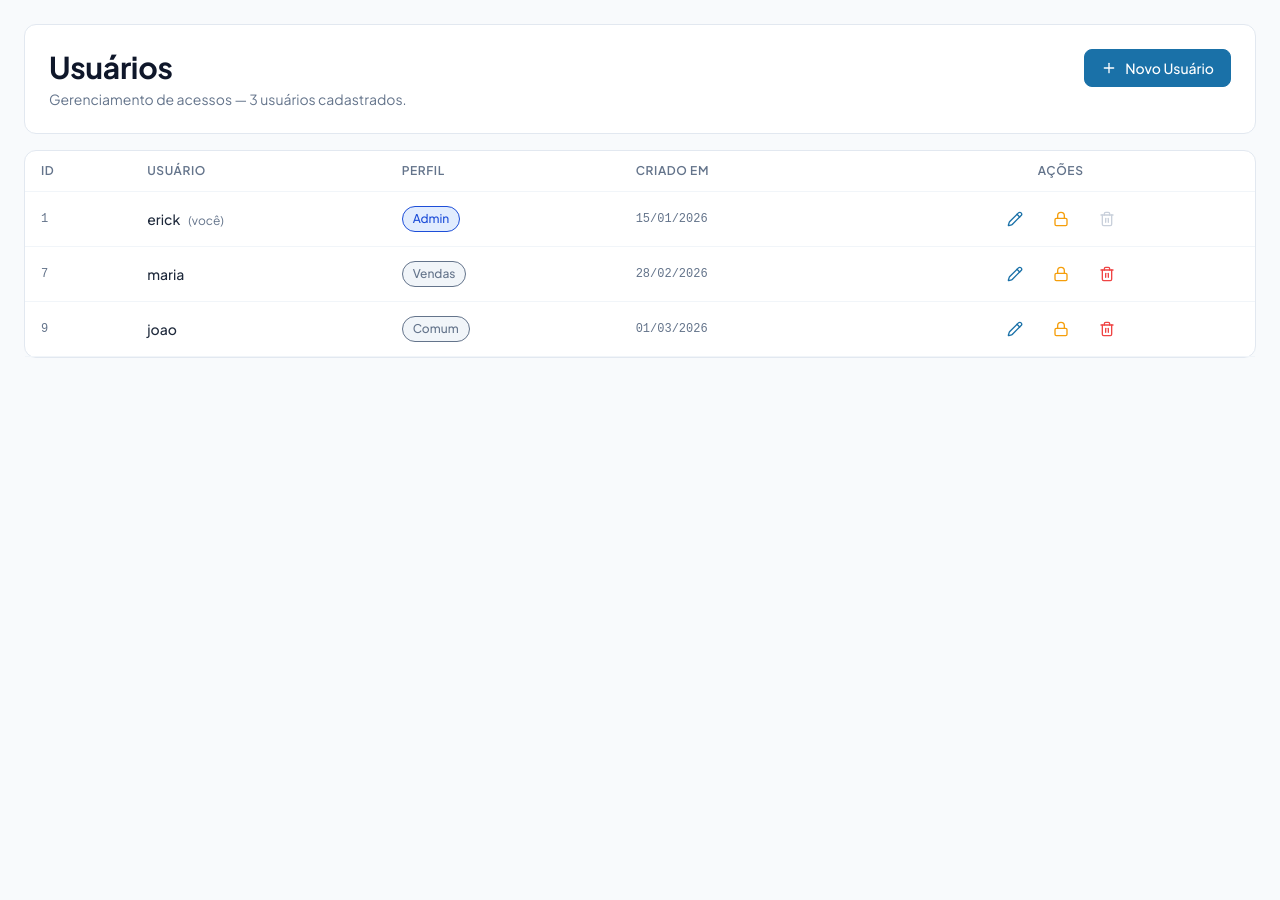
Test: Usuários — modal de criação › recusa senha com menos de 6 caracteres
Expected: the table is shown, [25,151,1255,357]
Click the button "Novo Usuário" at (1158, 68), box [1084,49,1231,87]
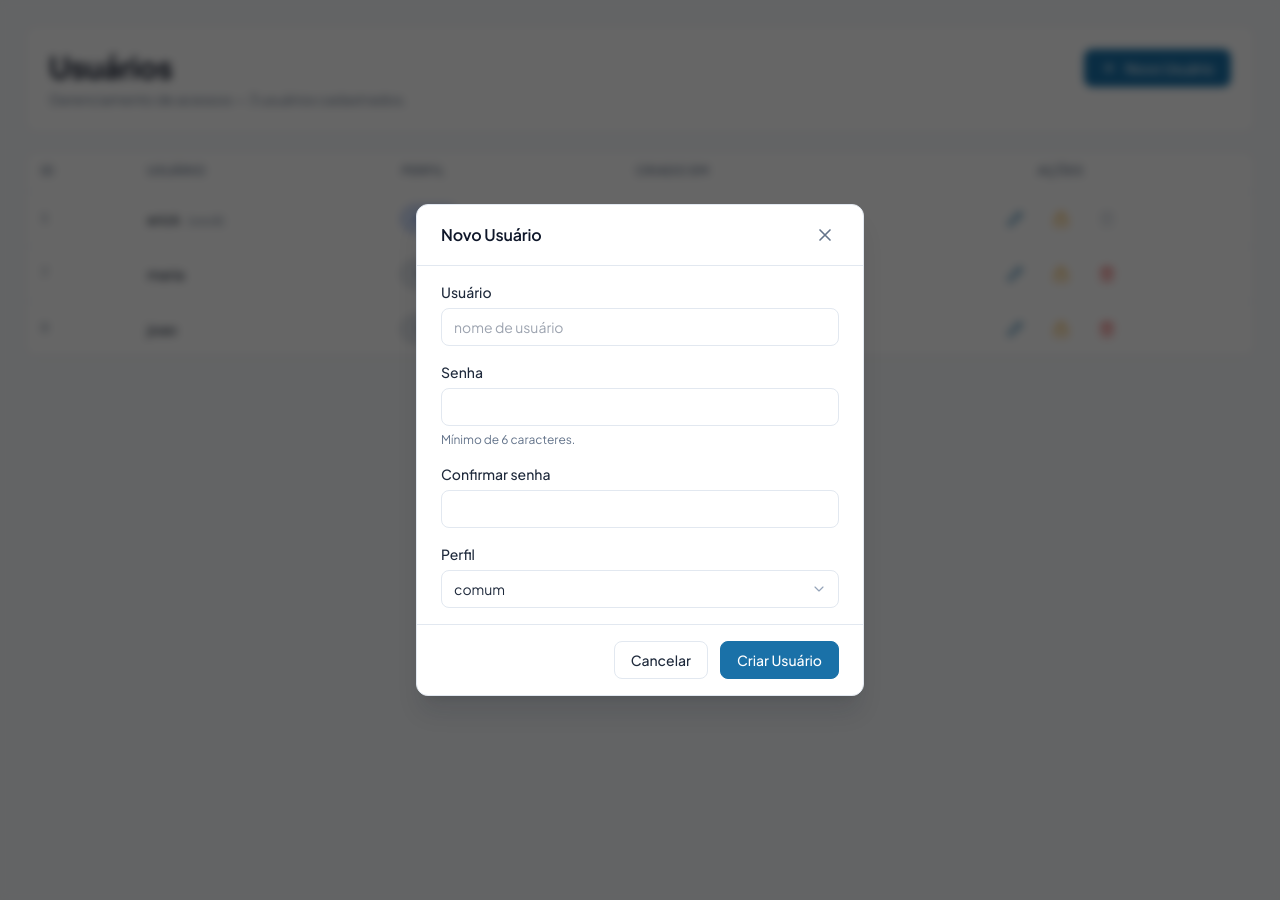
Type "novo" into the field labelled "Usuário" at (640, 327), box [441,308,839,346]
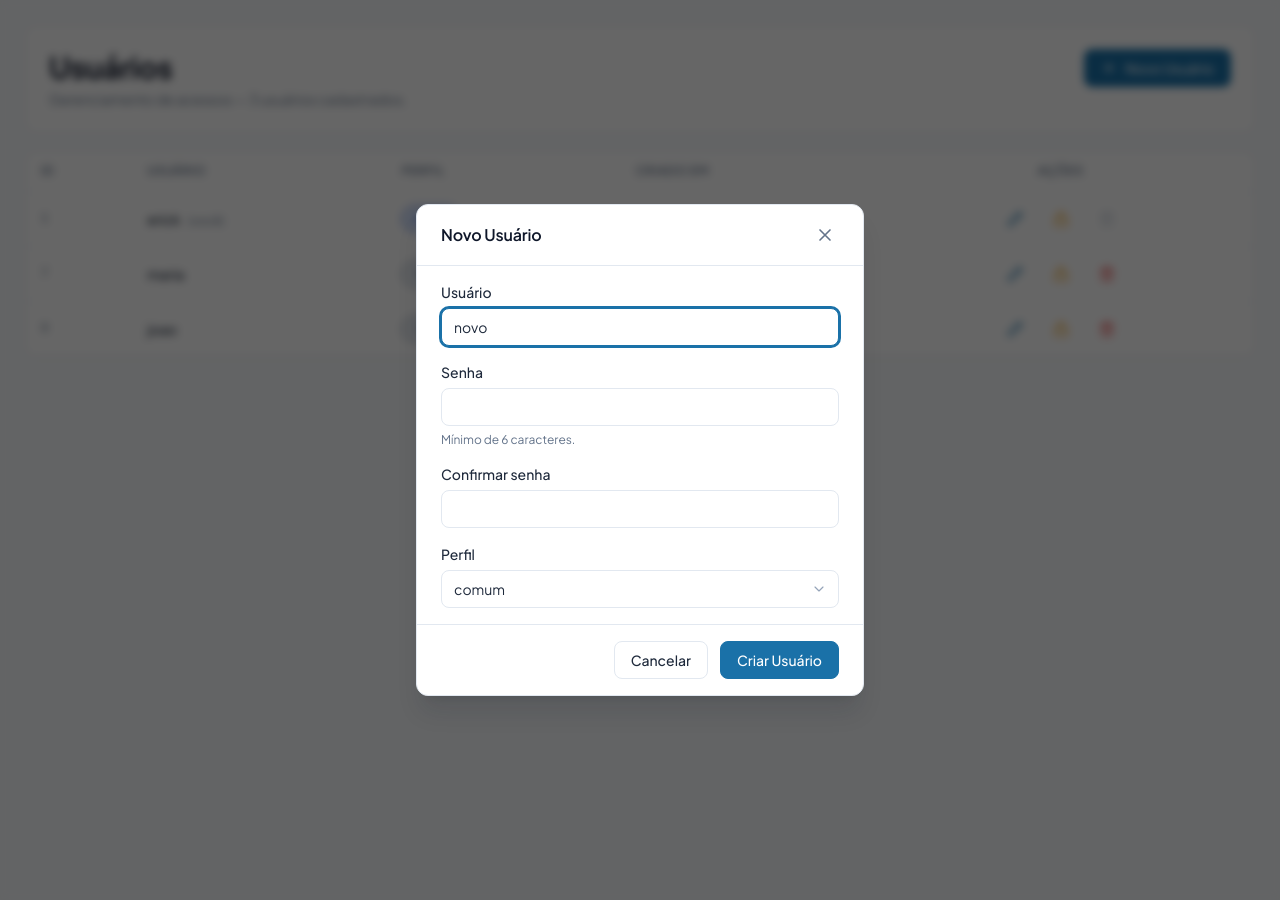
Type "12345" into the password field labelled "Senha" at (640, 407), box [441,388,839,426]
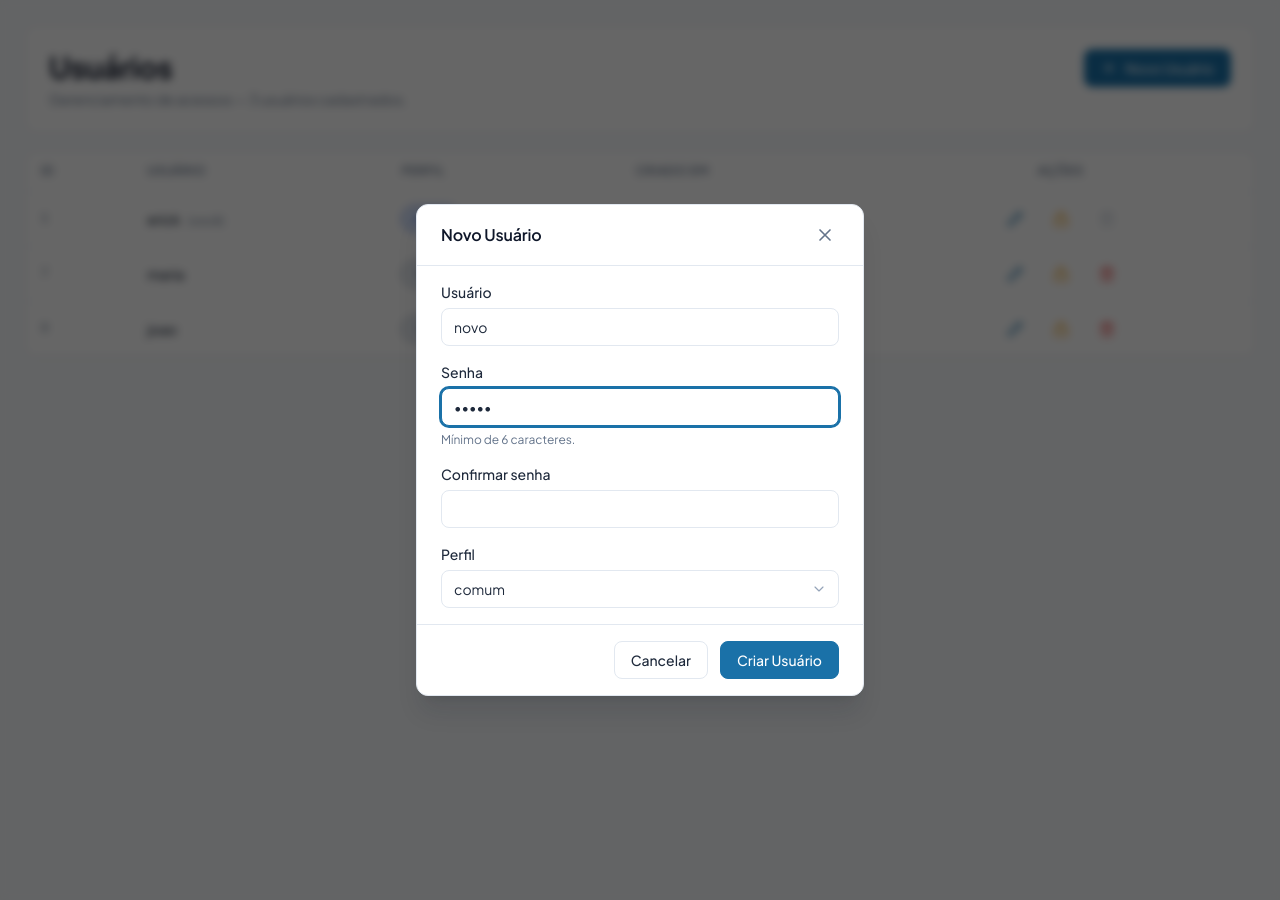
Type "12345" into the password field labelled "Confirmar senha" at (640, 509), box [441,490,839,528]
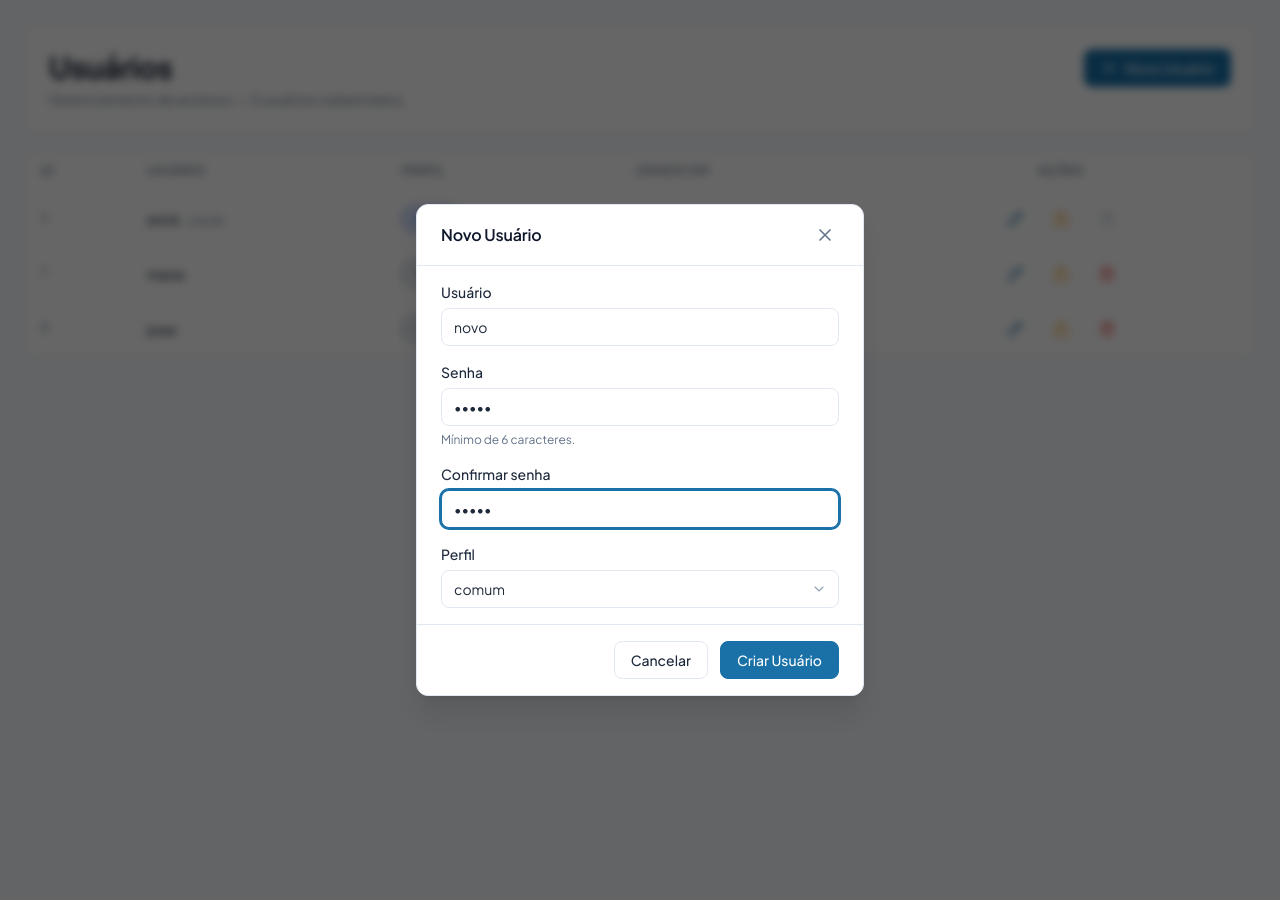
Click the button "Criar Usuário" at (779, 660), box [720,641,839,679]
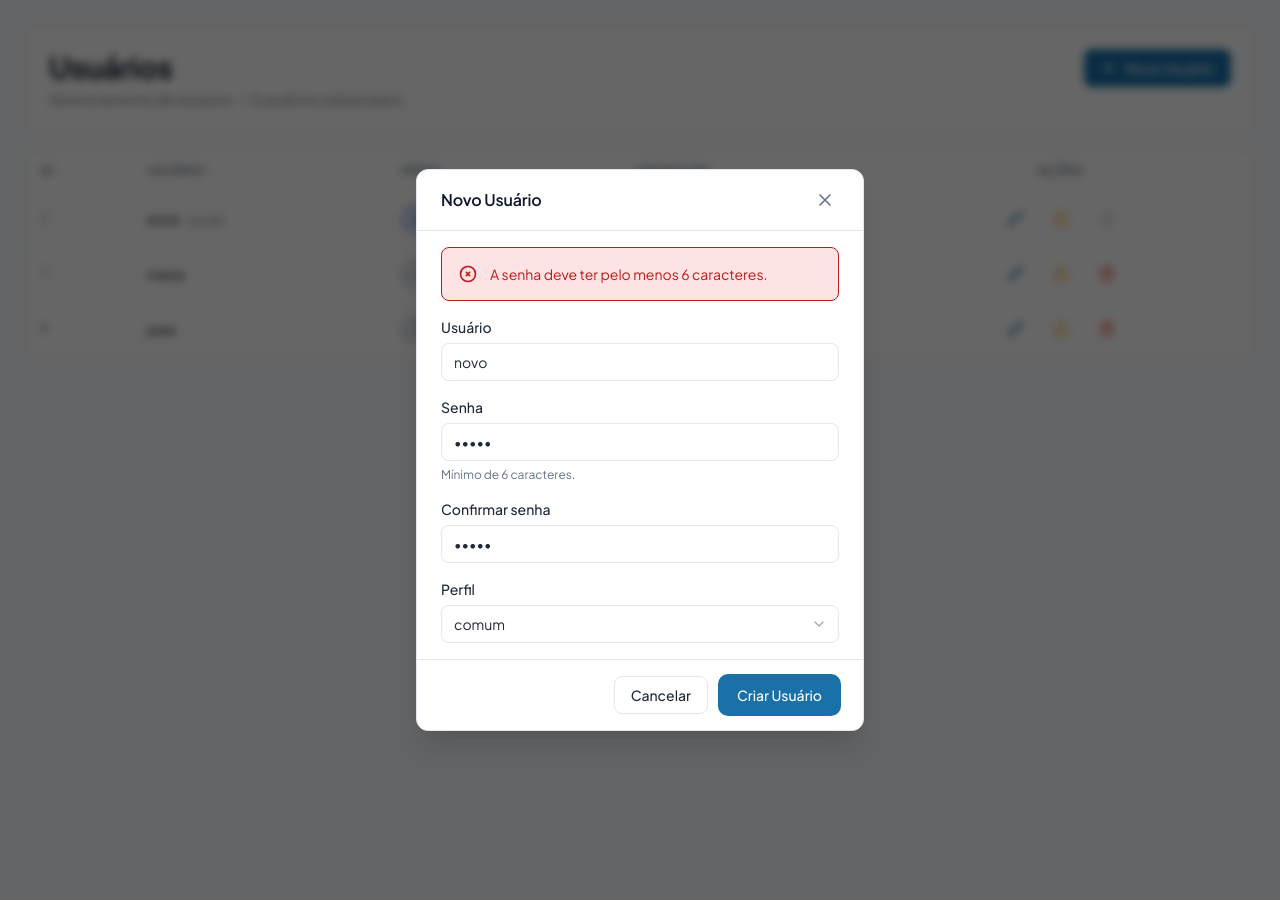
Now the text "A senha deve ter pelo menos 6 caracteres." is shown, box [490,265,768,283]
